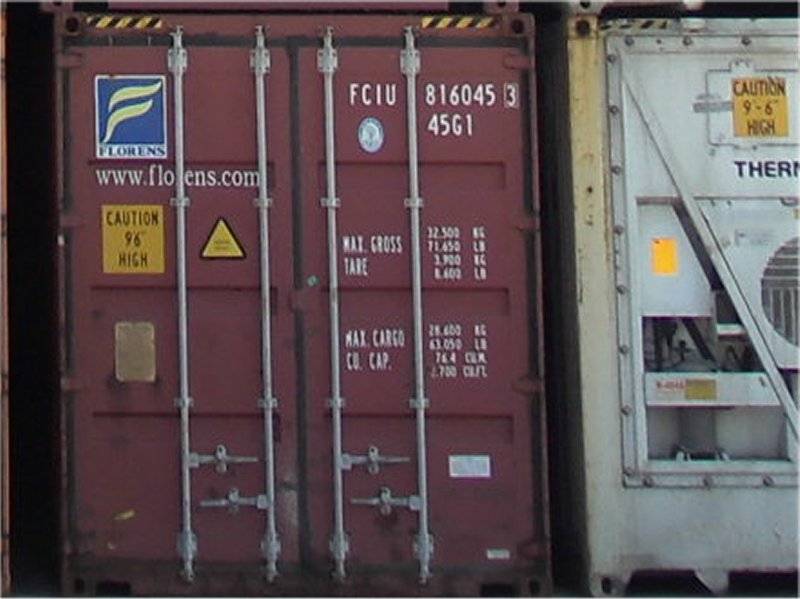container_door: (59, 8, 552, 599)
